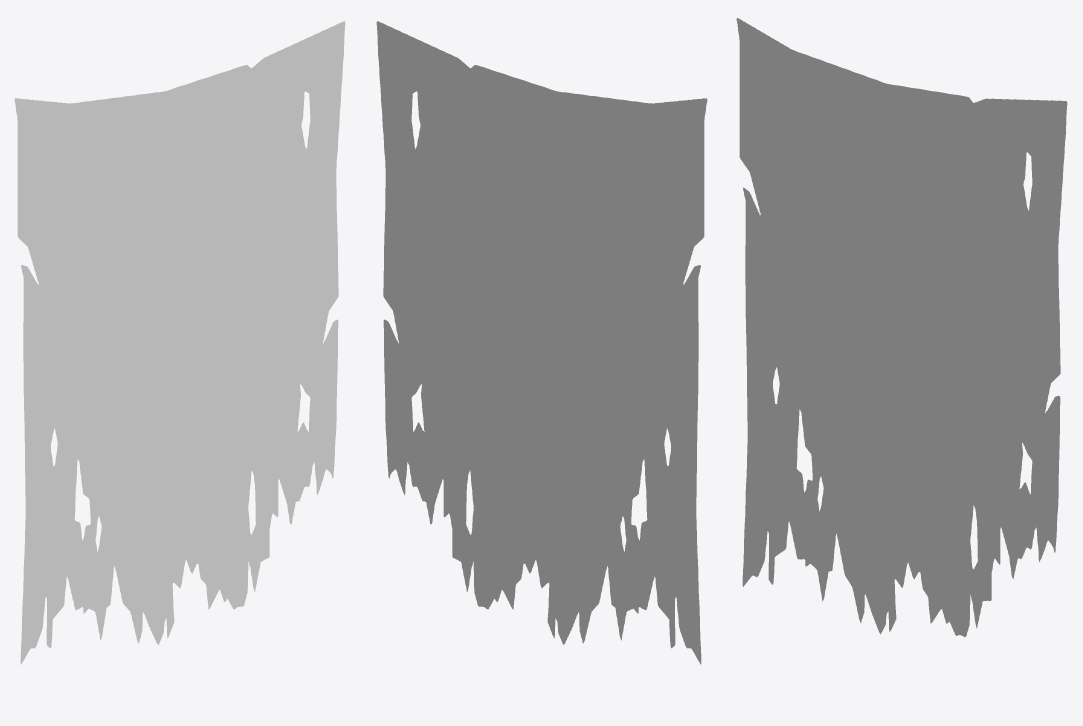
File: SM_Prop_Flag_06.fbx
3 renders of one model, left to right at view 1: azimuth 30°, elevation 25°; view 2: azimuth 150°, elevation 25°; view 3: azimuth 330°, elevation 25°, orthographic.
Visible parts, largest first — view 1: SM_Prop_Flag_06; view 2: SM_Prop_Flag_06; view 3: SM_Prop_Flag_06.
Part boxes in pixels (x1=…): SM_Prop_Flag_06: x1=14, y1=21, x2=345, y2=664; SM_Prop_Flag_06: x1=376, y1=21, x2=707, y2=664; SM_Prop_Flag_06: x1=736, y1=18, x2=1067, y2=637.
Size of the model in its own units: 121 by 215 by 0.
